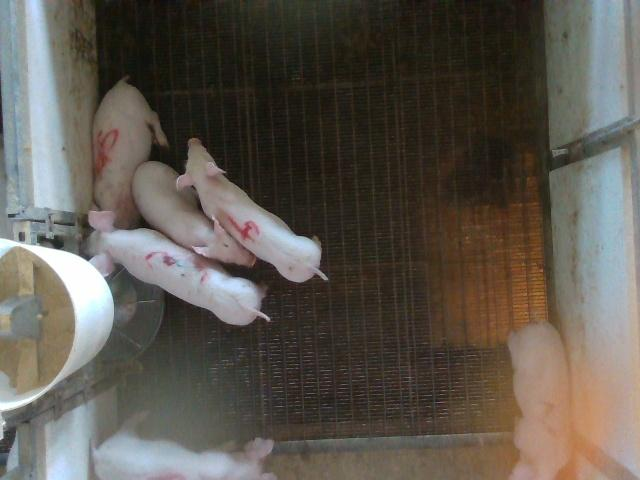pig-1: (92, 429, 275, 479)
pig-2: (509, 322, 571, 478)
pig-3: (81, 211, 270, 324)
pig-4: (178, 138, 328, 282)
pig-5: (94, 76, 169, 228)
